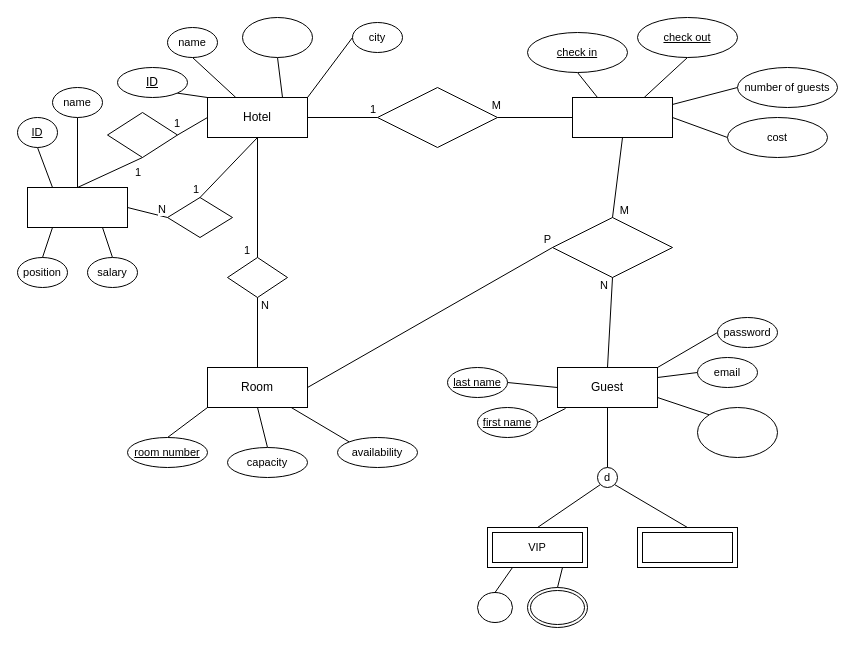
The diagram is 855 pixels wide and 645 high, and some of its shapes have lost their labels. The centre of each missing label's shape, as x and y in pixels:
benefits: [557,607]
date: [494,607]
Has: [257,277]
Has Reservation: [437,117]
Make Reservation: [612,247]
Manages: [142,135]
Normal: [687,547]
phone number: [737,432]
Reservation: [622,117]
Staff Member: [77,207]
star rating: [277,37]
WorksIn: [199,217]
